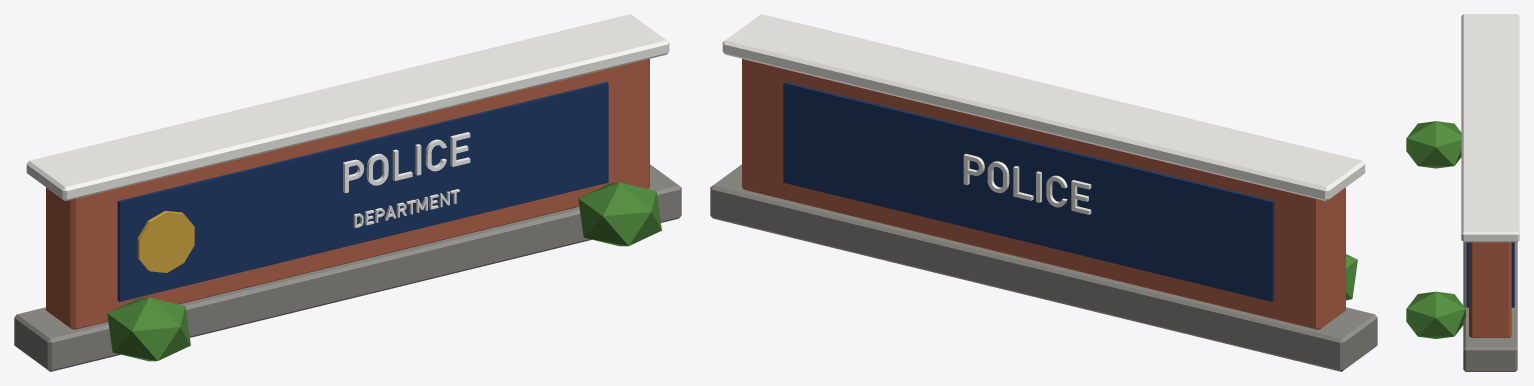
File: PD_MonumentSign.fbx
3 renders of one model, left to right at view 1: azimuth 30°, elevation 25°; view 2: azimuth 150°, elevation 25°; view 3: azimuth 270°, elevation 25°, orthographic. The views are drawn at different scales.
Visible parts, largest first — view 1: PD_MonumentSign_Mesh; view 2: PD_MonumentSign_Mesh; view 3: PD_MonumentSign_Mesh.
Part boxes in pixels (x1,y1,x2,y2): PD_MonumentSign_Mesh: (14, 14, 681, 371); PD_MonumentSign_Mesh: (710, 14, 1377, 371); PD_MonumentSign_Mesh: (1406, 14, 1519, 371).
Bounding box in the file's own units: 7 × 1.93 × 1.46.
